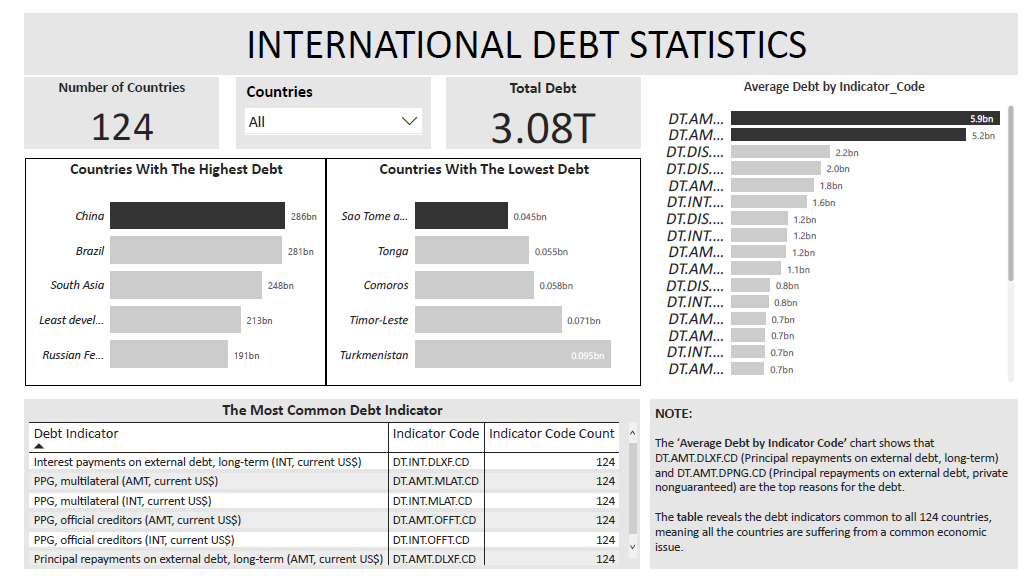

This screenshot's page, from the dashboard's own definition file:
{"tool":"powerbi","page":{"name":"Page 1","canvas":[1280,720],"ordinal":0},"visuals":[{"type":"card","title":"Number of Countries","fields":{"Values":["Count(international_debt.country_name)"]},"box":[11.2,81.2,247.5,90],"z":0},{"type":"textbox","box":[11.7,0,1268.3,78.3],"z":1000},{"type":"card","title":"Total Debt","fields":{"Values":["Sum(international_debt.debt)"]},"box":[550,81.2,247.5,90],"z":2000},{"type":"clusteredBarChart","title":"Countries With The Highest Debt","fields":{"Category":["international_debt.Countries"],"Y":["Sum(international_debt.debt)"]},"box":[11.7,185,385,290],"z":3000},{"type":"clusteredBarChart","title":"Countries With The Lowest Debt","fields":{"Category":["international_debt.Countries"],"Y":["Sum(international_debt.debt)"]},"box":[396.7,185,401.7,290],"z":4000},{"type":"slicer","fields":{"Values":["international_debt.Countries"]},"box":[281.2,81.2,247.5,90],"z":5000},{"type":"barChart","title":"Average Debt by Indicator_Code","fields":{"Category":["international_debt.indicator_code"],"Y":["Avg(international_debt.debt)"]},"box":[811.2,81.2,468.8,393.8],"z":6000},{"type":"tableEx","title":"The Most Common Debt Indicator","fields":{"Values":["international_debt.indicator_name","international_debt.indicator_code","CountNonNull(international_debt.indicator_code)"]},"box":[11.2,492.5,786.2,215],"z":7000},{"type":"textbox","box":[811,493,469,215],"z":8000}]}

Visuals, with their boxes in screenshot pixels (x1, y1, x2, y2), scaled from the page's 1280x720 canvas onto the 1033x579 screenshot:
"Number of Countries" card: (9,65,209,138)
textbox: (9,0,1032,63)
"Total Debt" card: (444,65,644,138)
"Countries With The Highest Debt" clusteredBarChart: (9,149,320,382)
"Countries With The Lowest Debt" clusteredBarChart: (320,149,644,382)
slicer - international_debt.Countries: (227,65,427,138)
"Average Debt by Indicator_Code" barChart: (655,65,1032,382)
"The Most Common Debt Indicator" tableEx: (9,396,644,569)
textbox: (655,396,1032,569)
